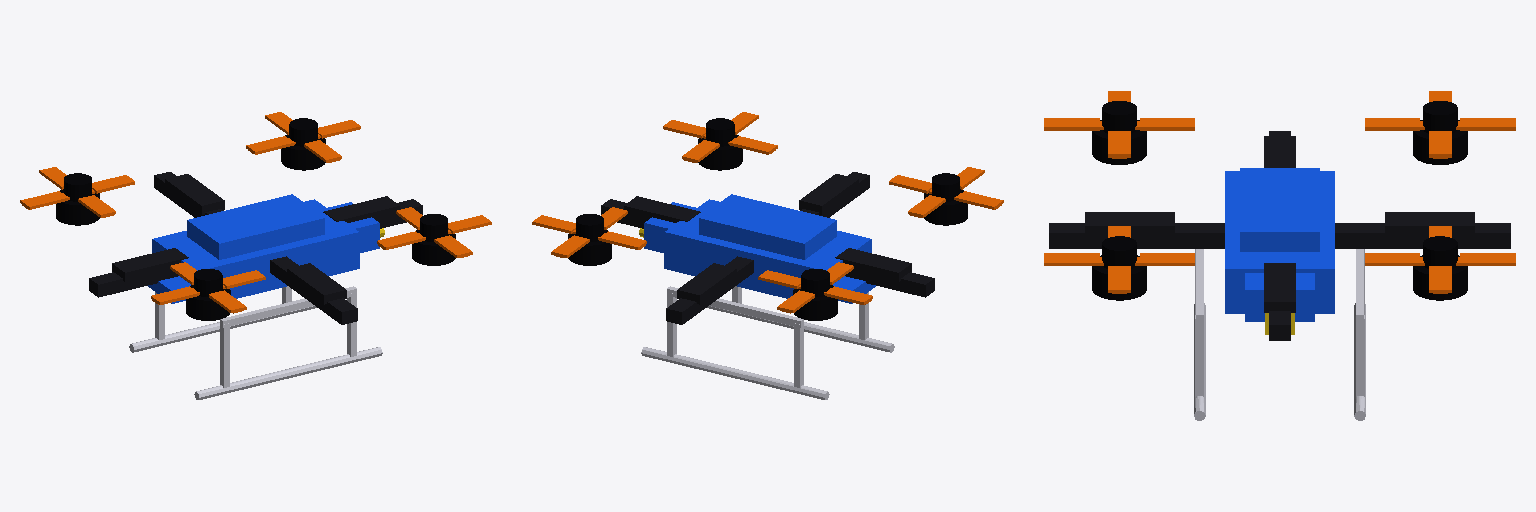
URDF robot description (freecad_drone):
<?xml version="1.0"?>
<robot name="freecad_drone">
  <material name="body_blue">
    <color rgba="0.12 0.40 0.95 1.0"/>
  </material>
  <material name="arm_dark">
    <color rgba="0.12 0.12 0.14 1.0"/>
  </material>
  <material name="motor_black">
    <color rgba="0.05 0.05 0.06 1.0"/>
  </material>
  <material name="propeller_orange">
    <color rgba="0.95 0.45 0.05 1.0"/>
  </material>
  <material name="skid_silver">
    <color rgba="0.82 0.82 0.86 1.0"/>
  </material>
  <material name="camera_yellow">
    <color rgba="0.95 0.82 0.12 1.0"/>
  </material>

  <link name="base_link">
    <inertial>
      <origin xyz="0 0 0" rpy="0 0 0"/>
      <mass value="1.8"/>
      <inertia ixx="0.05" ixy="0" ixz="0" iyy="0.05" iyz="0" izz="0.08"/>
    </inertial>
    <visual>
      <origin xyz="0 0 0" rpy="0 0 0"/>
      <geometry>
        <mesh filename="package://drone_pkg/meshes/body.stl"/>
      </geometry>
      <material name="body_blue"/>
    </visual>
    <visual>
      <origin xyz="0 0 0" rpy="0 0 0"/>
      <geometry>
        <mesh filename="package://drone_pkg/meshes/arm_x.stl"/>
      </geometry>
      <material name="arm_dark"/>
    </visual>
    <visual>
      <origin xyz="0 0 0" rpy="0 0 0"/>
      <geometry>
        <mesh filename="package://drone_pkg/meshes/arm_y.stl"/>
      </geometry>
      <material name="arm_dark"/>
    </visual>
    <visual>
      <origin xyz="0.32 0.32 0.075" rpy="0 0 0"/>
      <geometry>
        <mesh filename="package://drone_pkg/meshes/motor_hub.stl"/>
      </geometry>
      <material name="motor_black"/>
    </visual>
    <collision>
      <origin xyz="0.32 0.32 0.075" rpy="0 0 0"/>
      <geometry>
        <cylinder radius="0.06" length="0.09"/>
      </geometry>
    </collision>
    <visual>
      <origin xyz="0.32 -0.32 0.075" rpy="0 0 0"/>
      <geometry>
        <mesh filename="package://drone_pkg/meshes/motor_hub.stl"/>
      </geometry>
      <material name="motor_black"/>
    </visual>
    <collision>
      <origin xyz="0.32 -0.32 0.075" rpy="0 0 0"/>
      <geometry>
        <cylinder radius="0.06" length="0.09"/>
      </geometry>
    </collision>
    <visual>
      <origin xyz="-0.32 0.32 0.075" rpy="0 0 0"/>
      <geometry>
        <mesh filename="package://drone_pkg/meshes/motor_hub.stl"/>
      </geometry>
      <material name="motor_black"/>
    </visual>
    <collision>
      <origin xyz="-0.32 0.32 0.075" rpy="0 0 0"/>
      <geometry>
        <cylinder radius="0.06" length="0.09"/>
      </geometry>
    </collision>
    <visual>
      <origin xyz="-0.32 -0.32 0.075" rpy="0 0 0"/>
      <geometry>
        <mesh filename="package://drone_pkg/meshes/motor_hub.stl"/>
      </geometry>
      <material name="motor_black"/>
    </visual>
    <collision>
      <origin xyz="-0.32 -0.32 0.075" rpy="0 0 0"/>
      <geometry>
        <cylinder radius="0.06" length="0.09"/>
      </geometry>
    </collision>
    <visual>
      <origin xyz="0 0.16 -0.08" rpy="0 0 0"/>
      <geometry>
        <mesh filename="package://drone_pkg/meshes/landing_skid.stl"/>
      </geometry>
      <material name="skid_silver"/>
    </visual>
    <visual>
      <origin xyz="0 -0.16 -0.08" rpy="0 0 0"/>
      <geometry>
        <mesh filename="package://drone_pkg/meshes/landing_skid.stl"/>
      </geometry>
      <material name="skid_silver"/>
    </visual>
    <visual>
      <origin xyz="0.29 0 -0.02" rpy="0 0 0"/>
      <geometry>
        <mesh filename="package://drone_pkg/meshes/camera_block.stl"/>
      </geometry>
      <material name="camera_yellow"/>
    </visual>
    <collision>
      <origin xyz="0 0 0" rpy="0 0 0"/>
      <geometry>
        <box size="0.50 0.24 0.14"/>
      </geometry>
    </collision>
    <collision>
      <origin xyz="0 0 0.015" rpy="0 0 0"/>
      <geometry>
        <box size="0.95 0.08 0.06"/>
      </geometry>
    </collision>
    <collision>
      <origin xyz="0 0 0.015" rpy="0 0 0"/>
      <geometry>
        <box size="0.08 0.95 0.06"/>
      </geometry>
    </collision>
  </link>

  <link name="front_left_propeller">
    <inertial>
      <origin xyz="0 0 0" rpy="0 0 0"/>
      <mass value="0.02"/>
      <inertia ixx="1e-5" ixy="0" ixz="0" iyy="1e-5" iyz="0" izz="2e-5"/>
    </inertial>
    <visual>
      <geometry>
        <mesh filename="package://drone_pkg/meshes/propeller.stl"/>
      </geometry>
      <material name="propeller_orange"/>
    </visual>
    <collision>
      <origin xyz="0 0 0" rpy="0 0 0"/>
      <geometry>
        <cylinder radius="0.16" length="0.02"/>
      </geometry>
    </collision>
  </link>
  <joint name="front_left_propeller_joint" type="continuous">
    <parent link="base_link"/>
    <child link="front_left_propeller"/>
    <origin xyz="0.32 0.32 0.105" rpy="0 0 0"/>
    <axis xyz="0 0 1"/>
  </joint>
  <link name="front_right_propeller">
    <inertial>
      <origin xyz="0 0 0" rpy="0 0 0"/>
      <mass value="0.02"/>
      <inertia ixx="1e-5" ixy="0" ixz="0" iyy="1e-5" iyz="0" izz="2e-5"/>
    </inertial>
    <visual>
      <geometry>
        <mesh filename="package://drone_pkg/meshes/propeller.stl"/>
      </geometry>
      <material name="propeller_orange"/>
    </visual>
    <collision>
      <origin xyz="0 0 0" rpy="0 0 0"/>
      <geometry>
        <cylinder radius="0.16" length="0.02"/>
      </geometry>
    </collision>
  </link>
  <joint name="front_right_propeller_joint" type="continuous">
    <parent link="base_link"/>
    <child link="front_right_propeller"/>
    <origin xyz="0.32 -0.32 0.105" rpy="0 0 0"/>
    <axis xyz="0 0 1"/>
  </joint>
  <link name="rear_left_propeller">
    <inertial>
      <origin xyz="0 0 0" rpy="0 0 0"/>
      <mass value="0.02"/>
      <inertia ixx="1e-5" ixy="0" ixz="0" iyy="1e-5" iyz="0" izz="2e-5"/>
    </inertial>
    <visual>
      <geometry>
        <mesh filename="package://drone_pkg/meshes/propeller.stl"/>
      </geometry>
      <material name="propeller_orange"/>
    </visual>
    <collision>
      <origin xyz="0 0 0" rpy="0 0 0"/>
      <geometry>
        <cylinder radius="0.16" length="0.02"/>
      </geometry>
    </collision>
  </link>
  <joint name="rear_left_propeller_joint" type="continuous">
    <parent link="base_link"/>
    <child link="rear_left_propeller"/>
    <origin xyz="-0.32 0.32 0.105" rpy="0 0 0"/>
    <axis xyz="0 0 1"/>
  </joint>
  <link name="rear_right_propeller">
    <inertial>
      <origin xyz="0 0 0" rpy="0 0 0"/>
      <mass value="0.02"/>
      <inertia ixx="1e-5" ixy="0" ixz="0" iyy="1e-5" iyz="0" izz="2e-5"/>
    </inertial>
    <visual>
      <geometry>
        <mesh filename="package://drone_pkg/meshes/propeller.stl"/>
      </geometry>
      <material name="propeller_orange"/>
    </visual>
    <collision>
      <origin xyz="0 0 0" rpy="0 0 0"/>
      <geometry>
        <cylinder radius="0.16" length="0.02"/>
      </geometry>
    </collision>
  </link>
  <joint name="rear_right_propeller_joint" type="continuous">
    <parent link="base_link"/>
    <child link="rear_right_propeller"/>
    <origin xyz="-0.32 -0.32 0.105" rpy="0 0 0"/>
    <axis xyz="0 0 1"/>
  </joint>

  <gazebo reference="base_link">
    <gravity>false</gravity>
    <visual>
      <material>
        <ambient>0.05 0.20 0.70 1.0</ambient>
        <diffuse>0.12 0.40 0.95 1.0</diffuse>
      </material>
    </visual>
    <material>Gazebo/Blue</material>
  </gazebo>
  <gazebo reference="front_left_propeller">
    <gravity>false</gravity>
    <kinematic>true</kinematic>
    <visual>
      <material>
        <ambient>0.70 0.30 0.02 1.0</ambient>
        <diffuse>0.95 0.45 0.05 1.0</diffuse>
      </material>
    </visual>
    <material>Gazebo/Orange</material>
  </gazebo>
  <gazebo reference="front_right_propeller">
    <gravity>false</gravity>
    <kinematic>true</kinematic>
    <visual>
      <material>
        <ambient>0.70 0.30 0.02 1.0</ambient>
        <diffuse>0.95 0.45 0.05 1.0</diffuse>
      </material>
    </visual>
    <material>Gazebo/Orange</material>
  </gazebo>
  <gazebo reference="rear_left_propeller">
    <gravity>false</gravity>
    <kinematic>true</kinematic>
    <visual>
      <material>
        <ambient>0.70 0.30 0.02 1.0</ambient>
        <diffuse>0.95 0.45 0.05 1.0</diffuse>
      </material>
    </visual>
    <material>Gazebo/Orange</material>
  </gazebo>
  <gazebo reference="rear_right_propeller">
    <gravity>false</gravity>
    <kinematic>true</kinematic>
    <visual>
      <material>
        <ambient>0.70 0.30 0.02 1.0</ambient>
        <diffuse>0.95 0.45 0.05 1.0</diffuse>
      </material>
    </visual>
    <material>Gazebo/Orange</material>
  </gazebo>

  <gazebo>
    <plugin name="gazebo_ros_joint_pose_trajectory" filename="libgazebo_ros_joint_pose_trajectory.so">
      <ros></ros>
      <update_rate>50</update_rate>
    </plugin>
  </gazebo>
</robot>

--- Facts derived from the render (not from the file) ---
The picture shows the robot from 3 angles, left to right: view 1: azimuth 30°, elevation 25°; view 2: azimuth 150°, elevation 25°; view 3: azimuth 270°, elevation 25°; orthographic projection.
Model freecad_drone with 5 links and 4 joints (4 continuous), rooted at base_link, posed all joints at 0.
Visible links, largest first — view 1: base_link, front_right_propeller, rear_left_propeller, front_left_propeller, rear_right_propeller; view 2: base_link, front_left_propeller, rear_right_propeller, front_right_propeller, rear_left_propeller; view 3: base_link, front_left_propeller, front_right_propeller, rear_left_propeller, rear_right_propeller.
Link boxes in pixels (box(x1,y1,x2,y2)): base_link: box(56, 118, 455, 399); front_right_propeller: box(377, 207, 491, 257); rear_left_propeller: box(20, 167, 134, 217); front_left_propeller: box(246, 112, 360, 162); rear_right_propeller: box(151, 262, 265, 313); base_link: box(568, 118, 967, 399); front_left_propeller: box(532, 207, 646, 257); rear_right_propeller: box(889, 167, 1003, 217); front_right_propeller: box(663, 112, 777, 162); rear_left_propeller: box(758, 262, 872, 313); base_link: box(1049, 101, 1510, 420); front_left_propeller: box(1365, 226, 1515, 293); front_right_propeller: box(1044, 226, 1194, 293); rear_left_propeller: box(1365, 91, 1515, 158); rear_right_propeller: box(1044, 91, 1194, 158).
Bounding box of the posed robot: 0.94 × 0.94 × 0.4195 m (x, y, z).
Meshes: 7 distinct files referenced, 14 mesh visuals loaded (7 binary STL).
